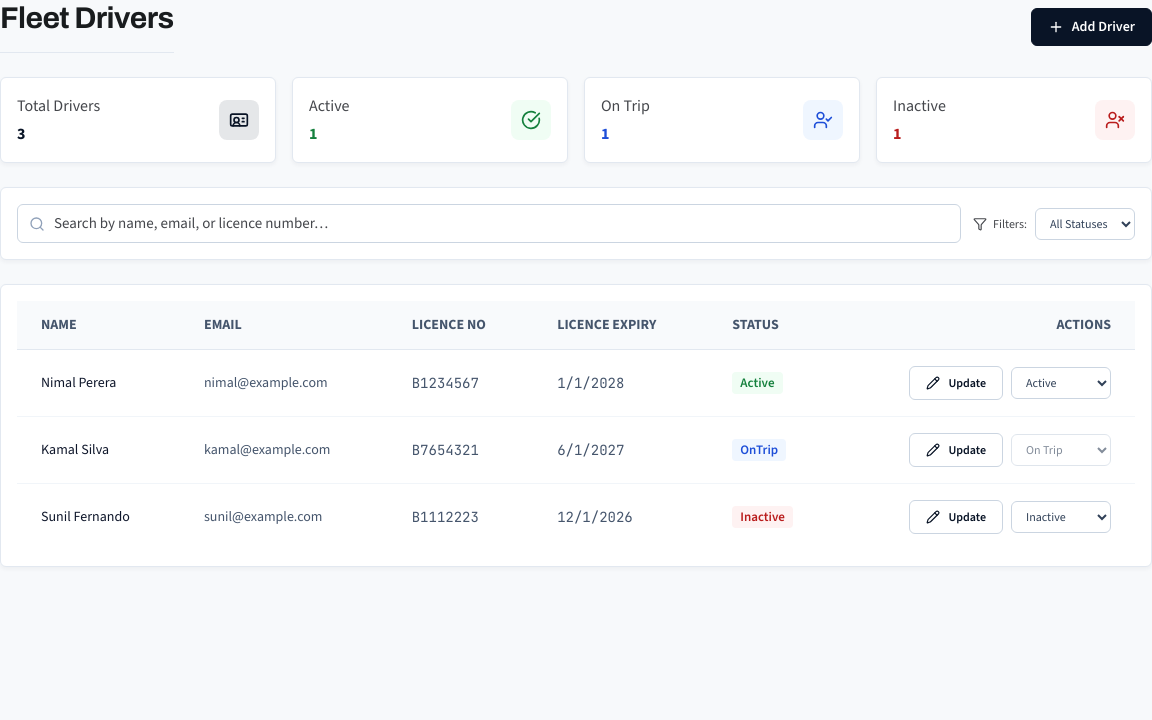
Test: FleetDriversPage › validates fields and prevents submit on empty fields
Click the button "Add Driver": (1091, 26) [1031, 8, 1151, 46]
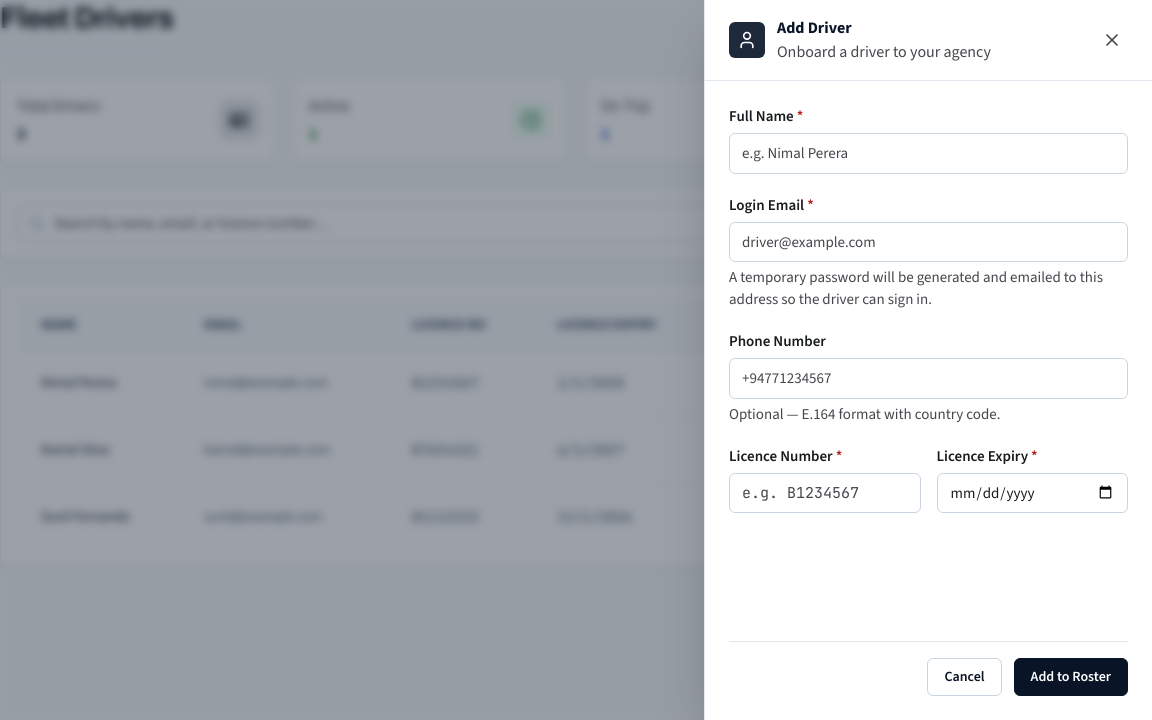
Click the button "Add to Roster": (1071, 677) [1014, 658, 1128, 696]
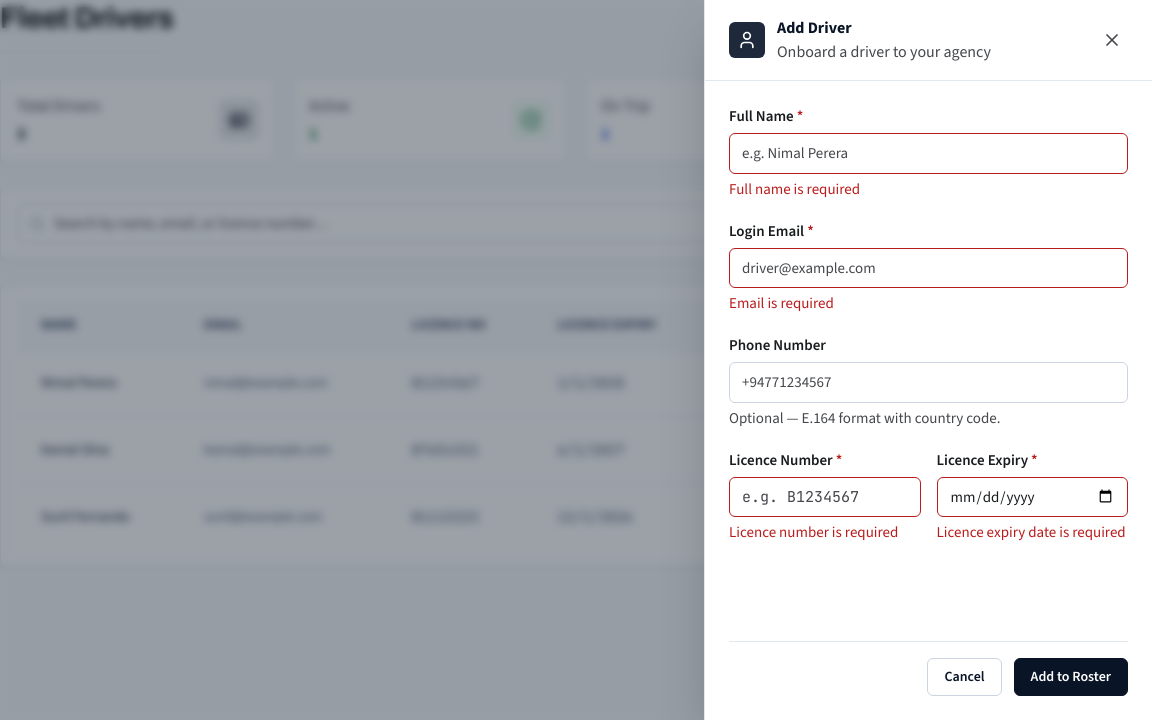
Now the text "Full name is required" is shown, box [729, 178, 860, 198]
Now the text "Email is required" is shown, box [729, 293, 834, 313]
Now the text "Licence number is required" is shown, box [729, 521, 920, 543]
